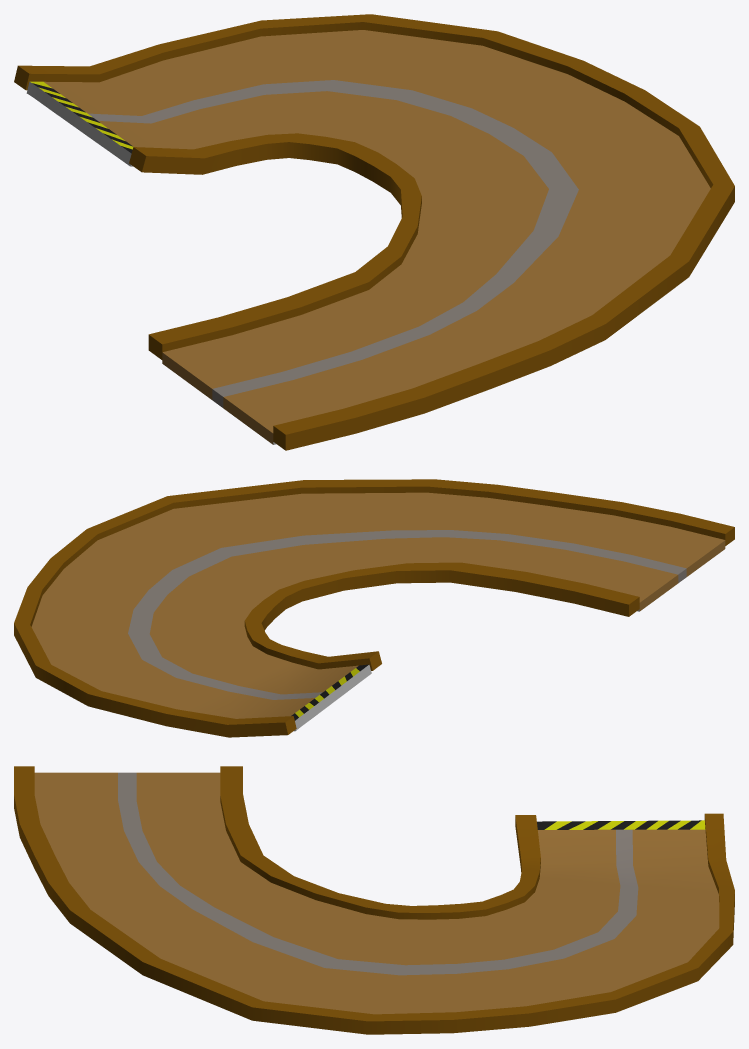
Rendered from TestRoadV25_Part.fbx.
3 views of the same model, one above another, from view 1: azimuth 30°, elevation 25°; view 2: azimuth 150°, elevation 25°; view 3: azimuth 270°, elevation 25° (orthographic). The views are drawn at different scales.
Parts seen in each view (by area): view 1: pasted__pPlane3, pasted__pasted__pPlane3; view 2: pasted__pPlane3, pasted__pasted__pPlane3; view 3: pasted__pPlane3, pasted__pasted__pPlane3.
Boxes of the visible parts, box(x1,y1,x2,y2) form: pasted__pPlane3: box(26, 30, 710, 444); pasted__pasted__pPlane3: box(14, 14, 734, 450); pasted__pPlane3: box(31, 492, 725, 731); pasted__pasted__pPlane3: box(14, 479, 734, 737); pasted__pPlane3: box(34, 772, 719, 1014); pasted__pasted__pPlane3: box(14, 766, 734, 1034).
Bounding box in the file's own units: 0.1437 × 0.00857 × 0.1715.
